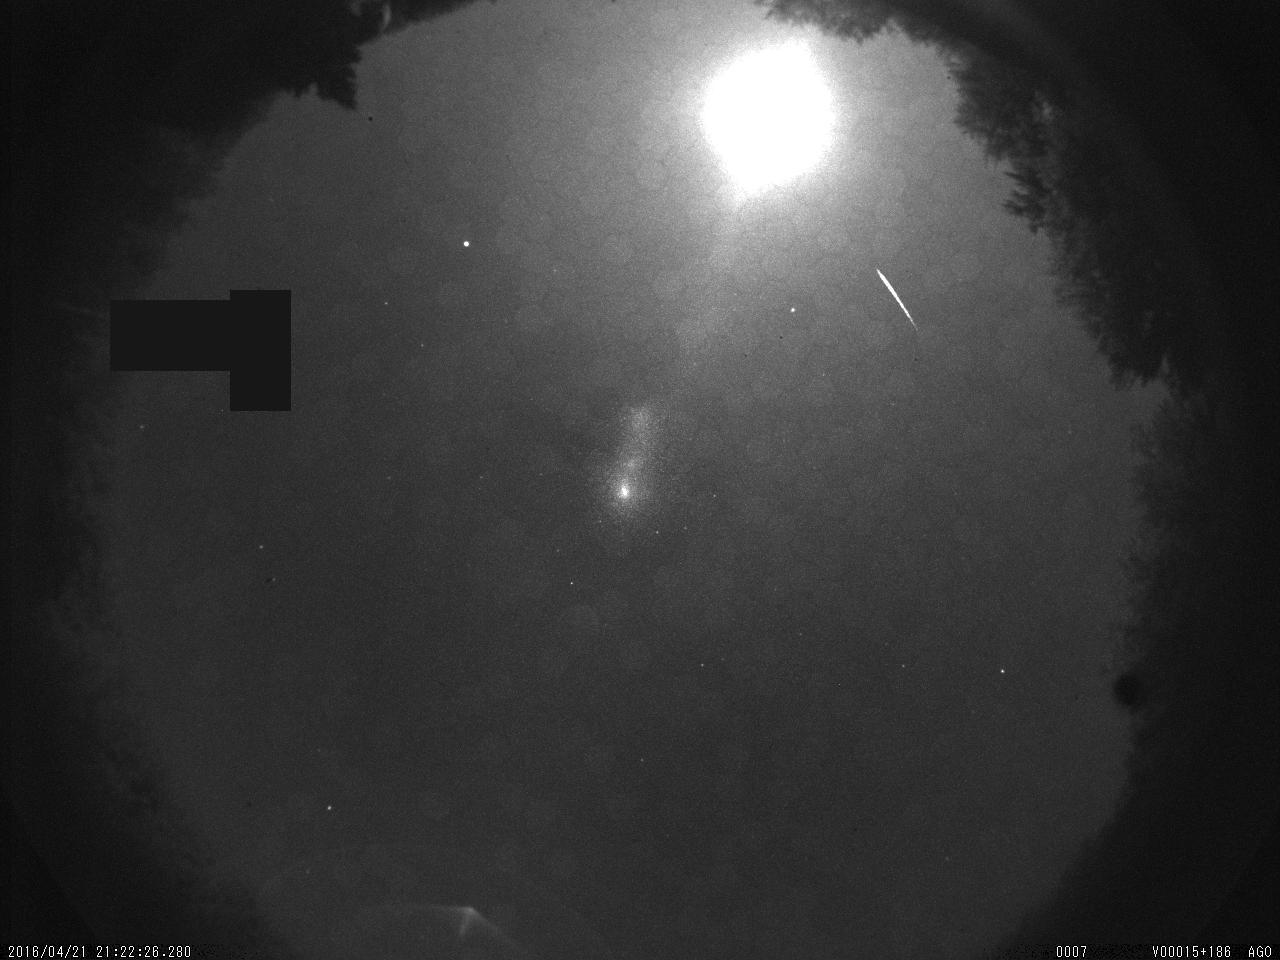meteor: (871, 260, 921, 332)
